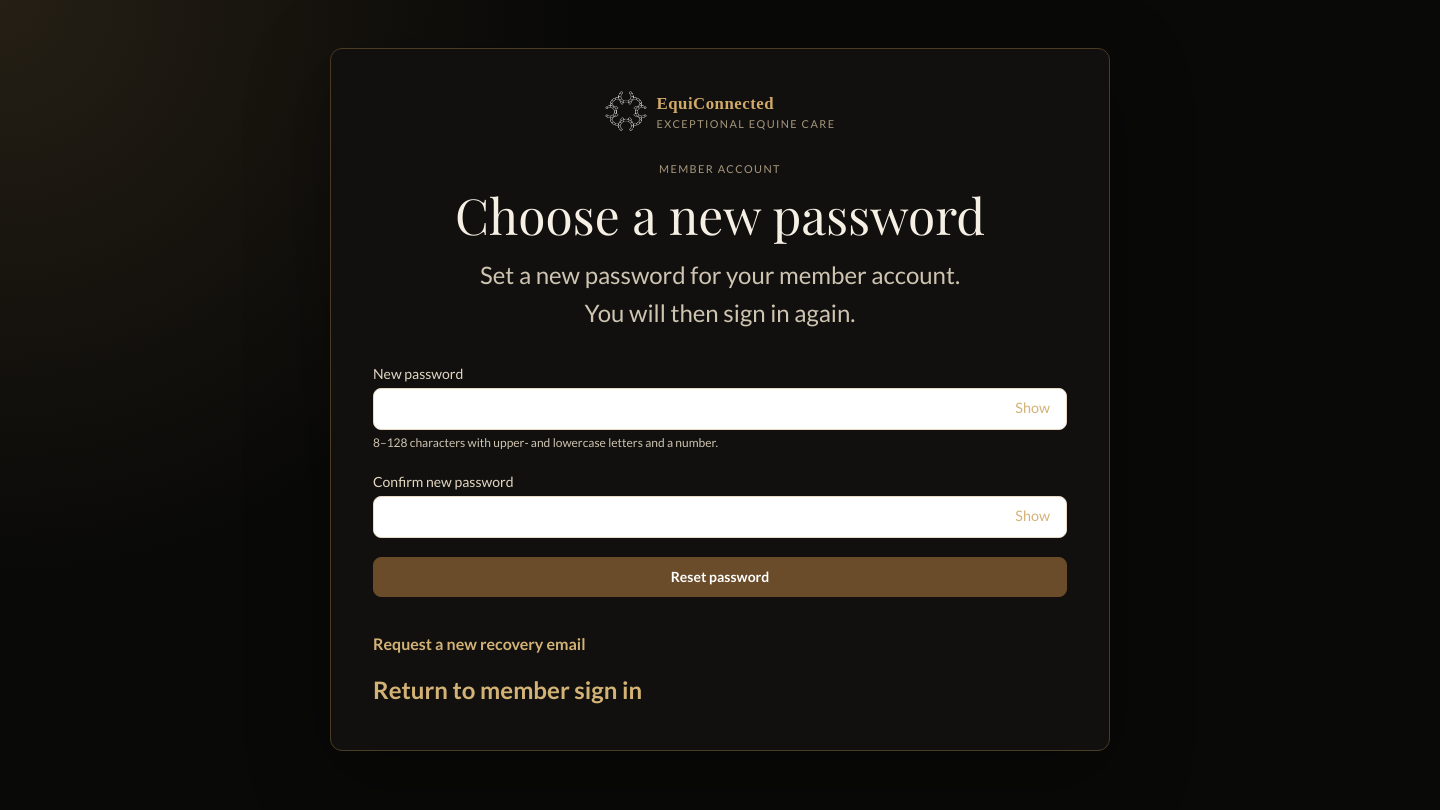
Test: member recovery redemption › gives distinct guidance for member_recovery_link_invalid and a new-request action
Type "SecureHorse7" into the password field labelled "New password". click: point(693, 409)
box: [374,389,1011,429]
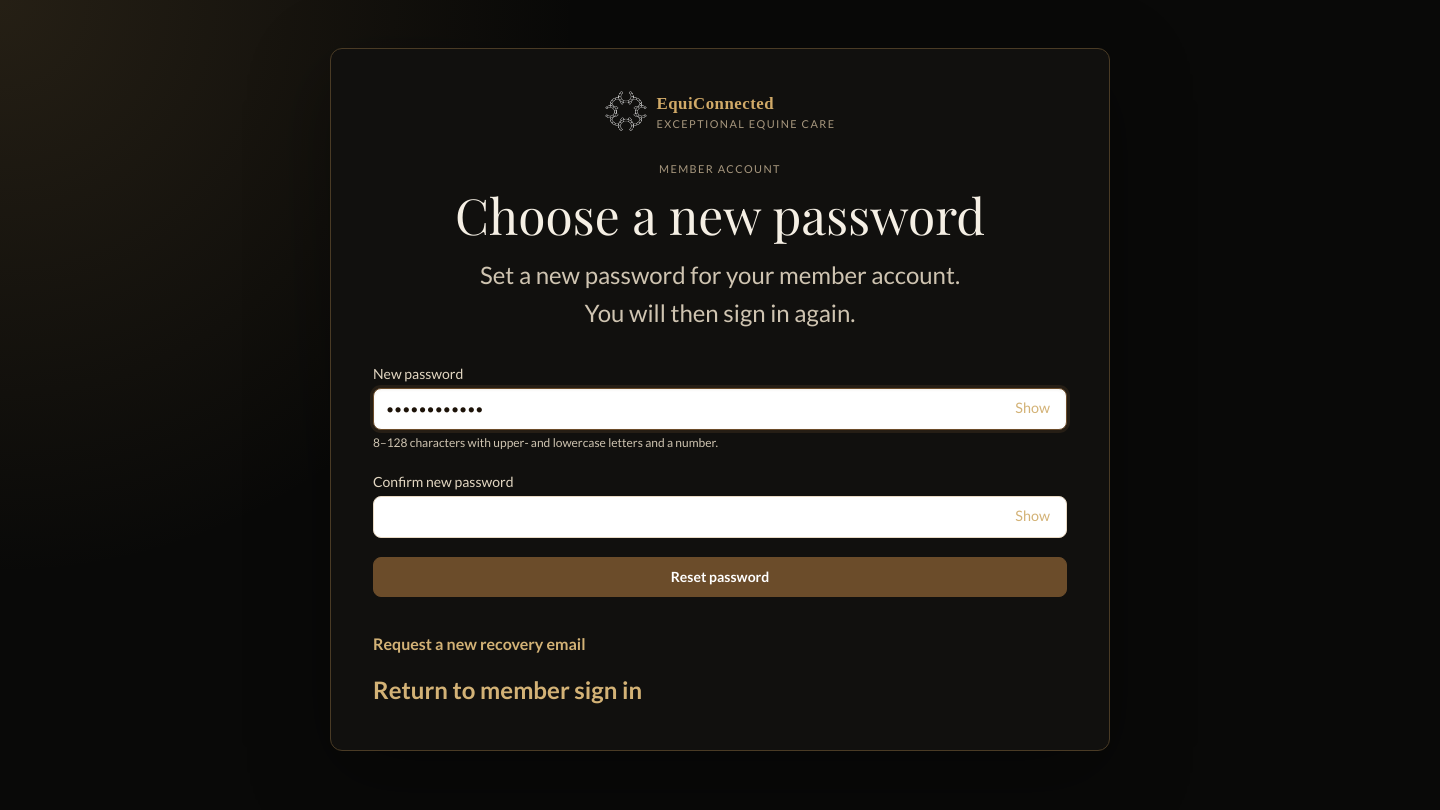
Type "SecureHorse7" into the password field labelled "Confirm new password". click: point(693, 517)
box: [374,497,1011,537]
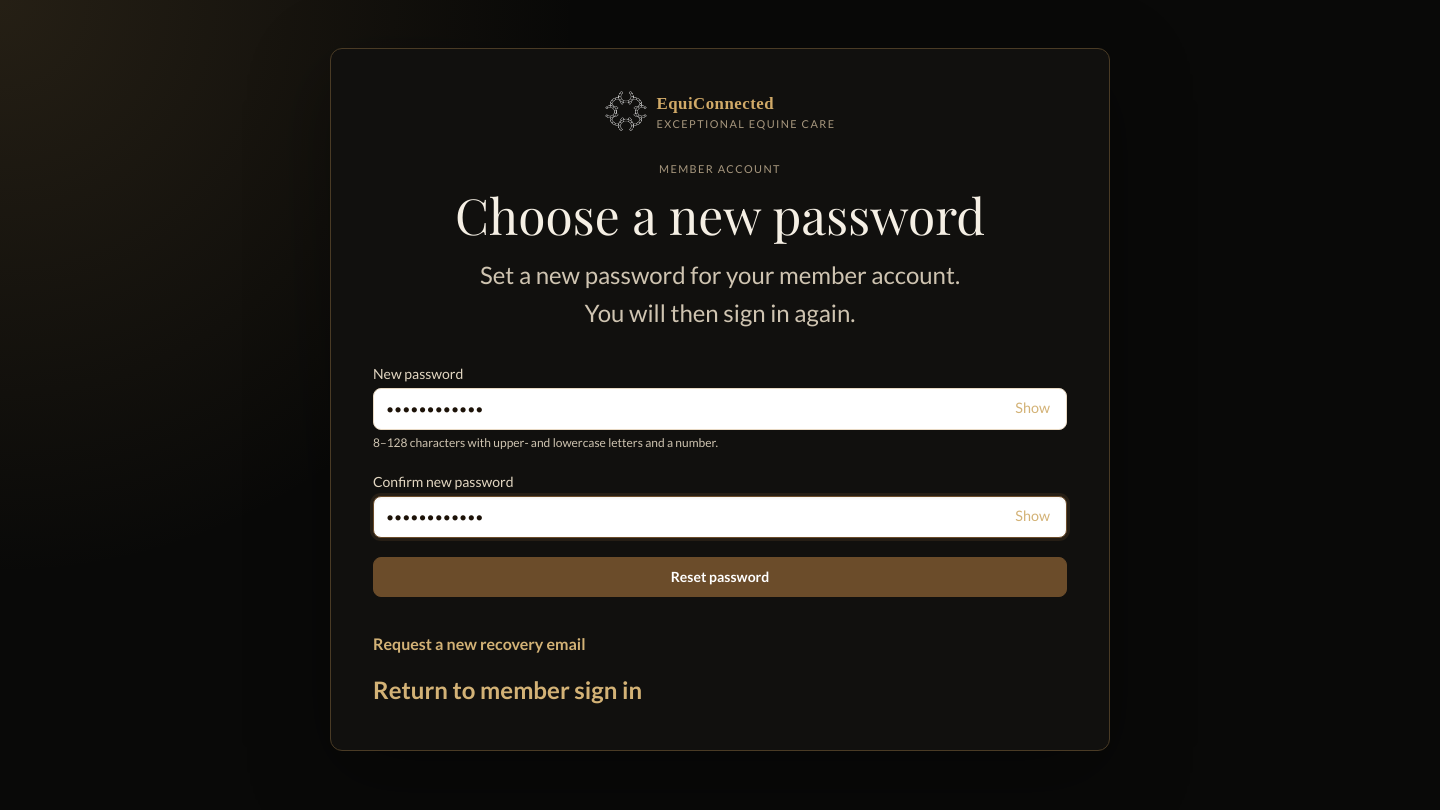
Click the button "Reset password". click: point(720, 577)
box: [373,557,1067,597]
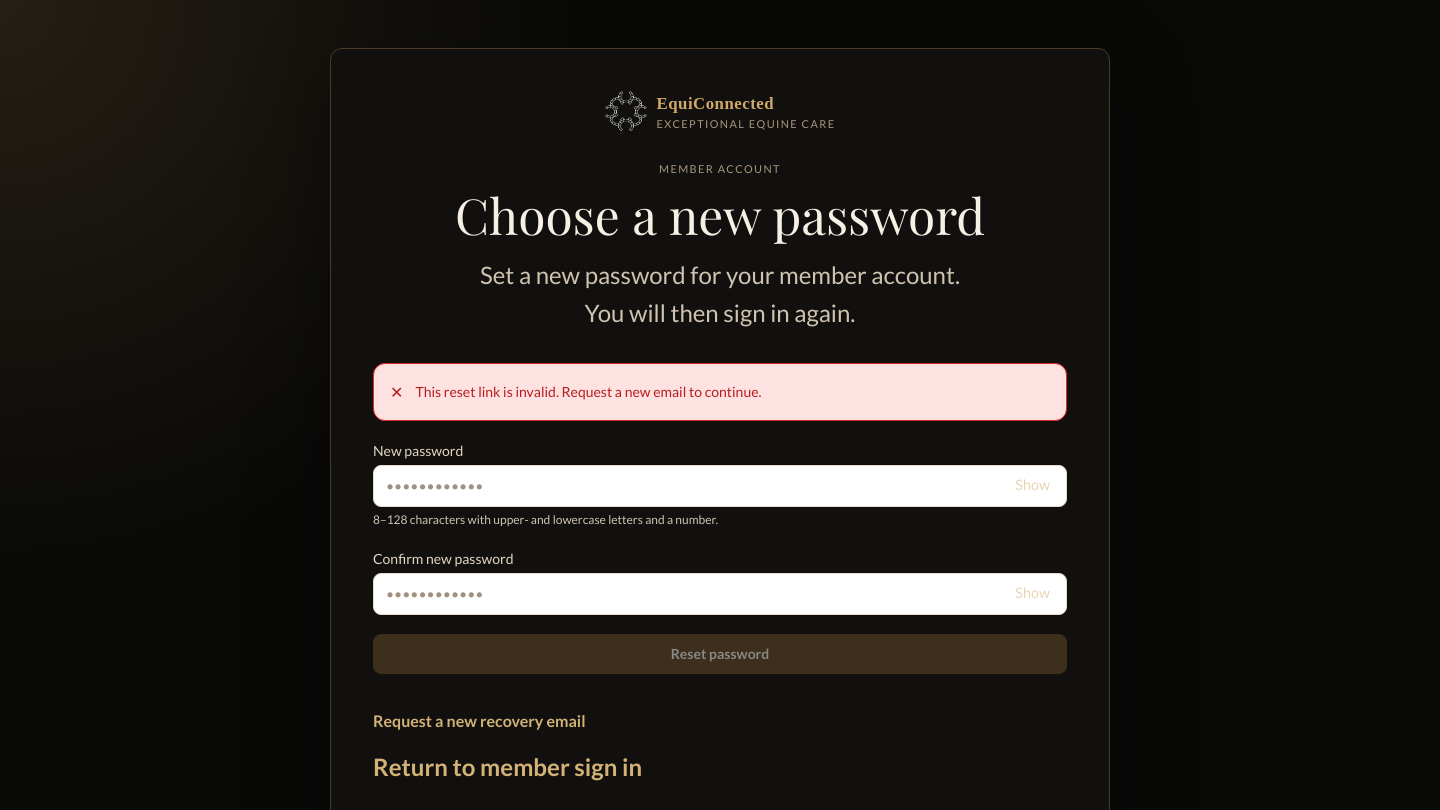
Expected: the link "Return to member sign in" is shown, [373,749,642,785]
Now the message shows "invalid", box [415,383,762,400]
Now the button "Reset password" is disabled, box [373,634,1067,674]
